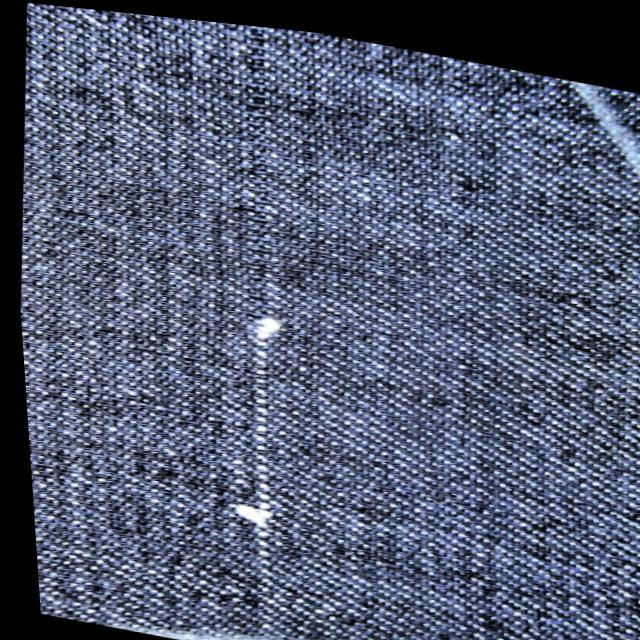Hole: (222, 20, 277, 640)
